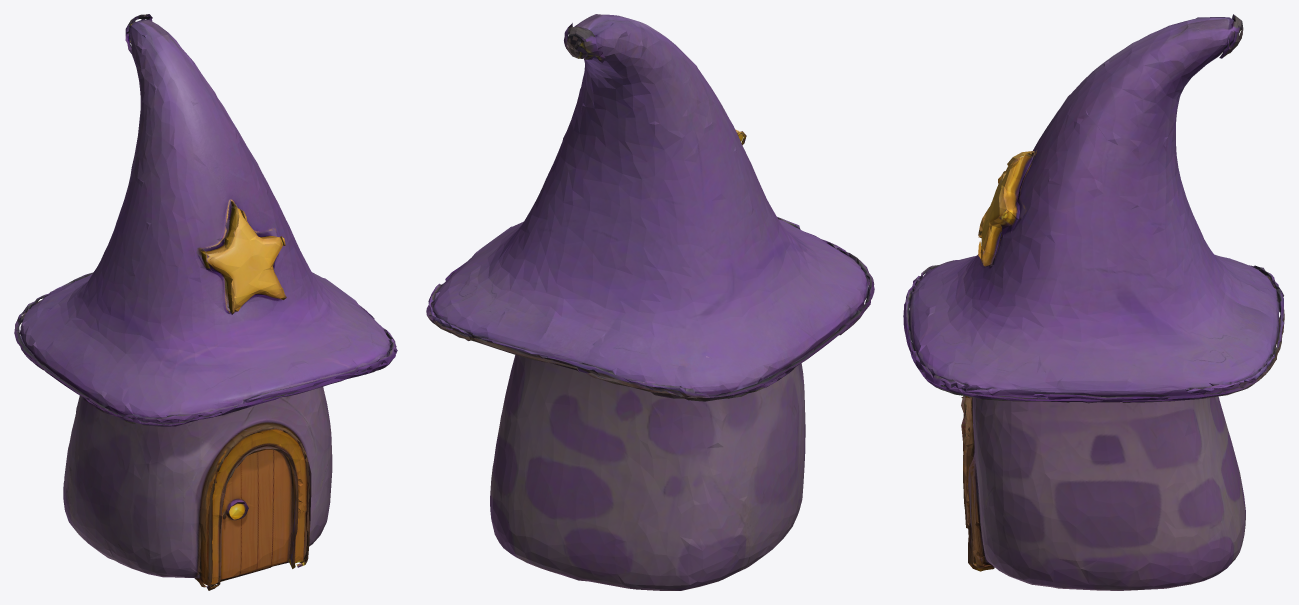
The model's file is Mystical_Cabin_0514183732_texture.fbx.
The picture shows the model from 3 angles, left to right: view 1: azimuth 30°, elevation 25°; view 2: azimuth 150°, elevation 25°; view 3: azimuth 270°, elevation 25°; orthographic projection. The views are drawn at different scales.
Visible parts, largest first — view 1: temp; view 2: temp; view 3: temp.
Boxes of the visible parts, x1,y1,x2,y2 form: temp: (14,14,397,590); temp: (426,14,874,590); temp: (903,14,1284,590).
Bounding box in the file's own units: 126 × 199 × 130.
Materials: 1 (1 with a texture image).
